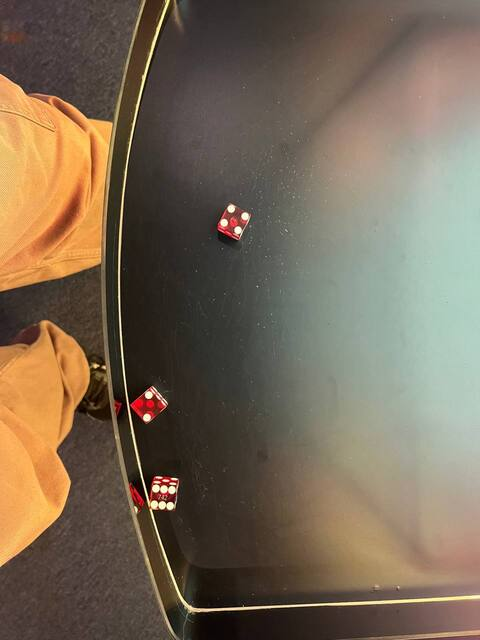four: (213, 200, 255, 240)
six: (144, 480, 183, 515)
two: (128, 384, 168, 427)
